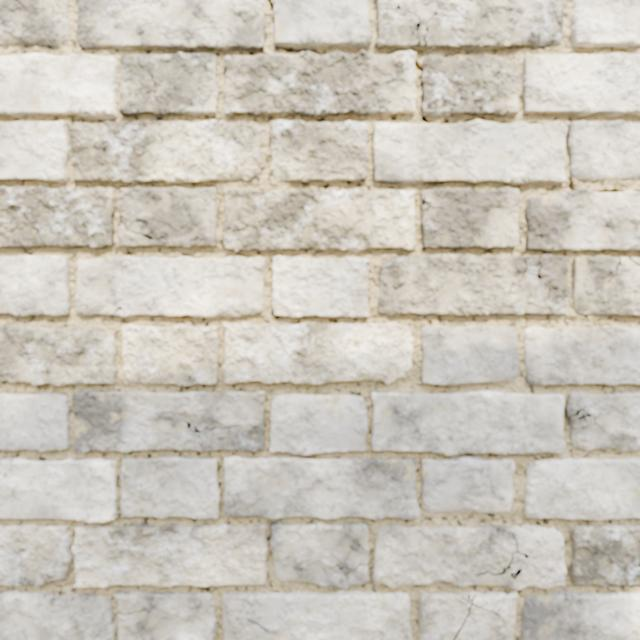crack: (223, 0, 639, 251), (372, 524, 566, 639), (371, 390, 639, 455), (0, 120, 263, 184), (72, 523, 268, 588), (223, 456, 419, 520), (222, 188, 415, 252), (72, 390, 264, 453), (377, 254, 570, 316), (222, 322, 413, 384), (75, 256, 265, 318), (77, 0, 265, 52), (222, 591, 412, 639), (0, 53, 117, 119), (0, 458, 118, 522), (522, 53, 639, 116), (0, 186, 115, 249), (0, 324, 117, 385), (524, 458, 639, 520), (524, 325, 639, 385), (270, 520, 369, 589), (119, 52, 219, 117), (269, 120, 368, 183), (120, 456, 219, 518), (421, 187, 519, 249), (118, 187, 217, 247), (272, 256, 369, 317), (122, 324, 219, 385), (270, 394, 367, 455), (421, 324, 519, 384), (520, 590, 639, 639), (0, 591, 116, 639), (421, 456, 514, 513), (115, 590, 217, 639), (0, 523, 72, 587), (569, 523, 639, 586), (0, 256, 71, 316), (0, 393, 70, 451), (572, 257, 639, 315), (0, 0, 69, 49), (570, 0, 639, 47)
